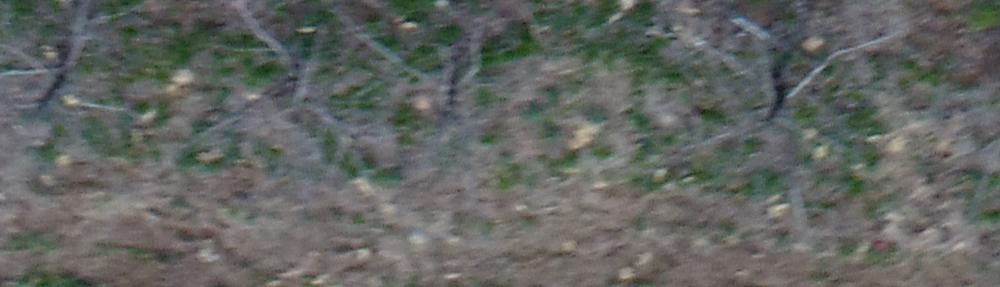apple: (671, 10, 885, 215), (210, 10, 381, 189), (360, 10, 520, 178)
